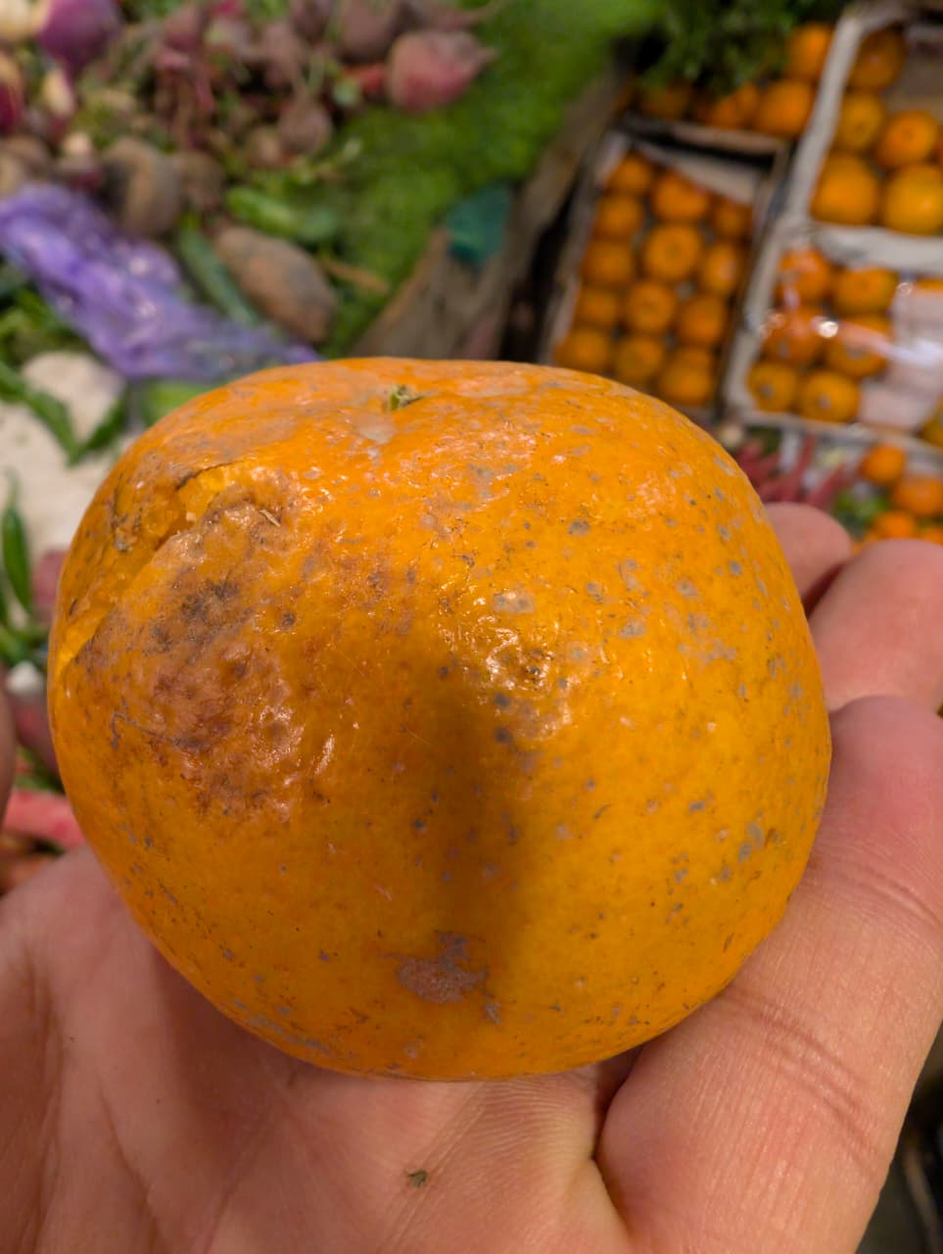orange: (229, 40, 806, 1079)
